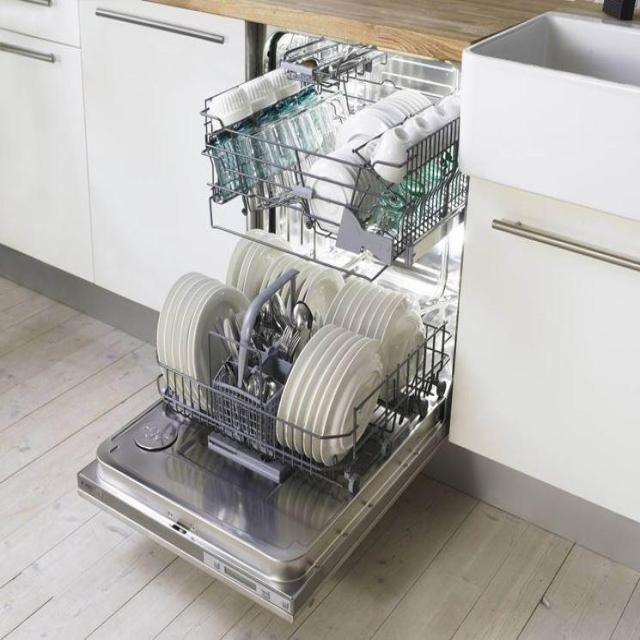dishwasher: (71, 15, 482, 632)
